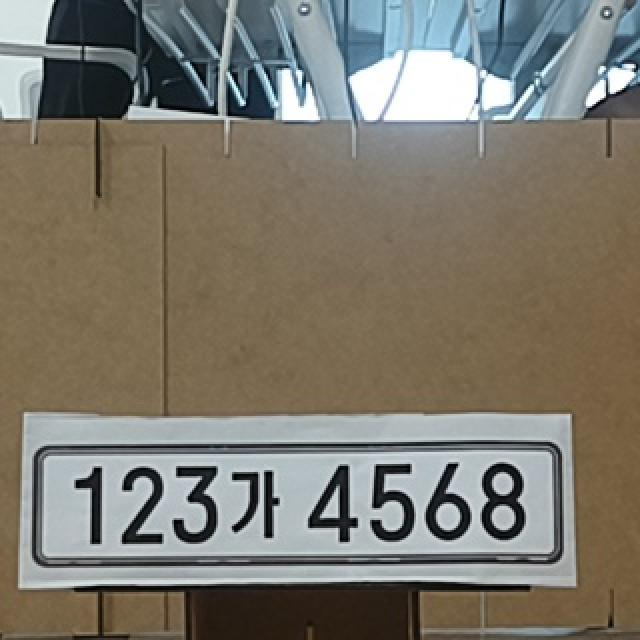normal: (32, 450, 558, 559)
